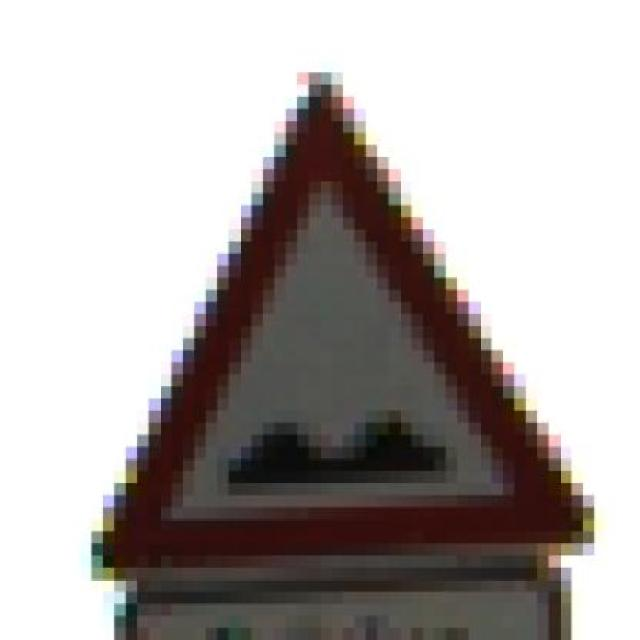Uneven Road: (67, 48, 593, 580)
